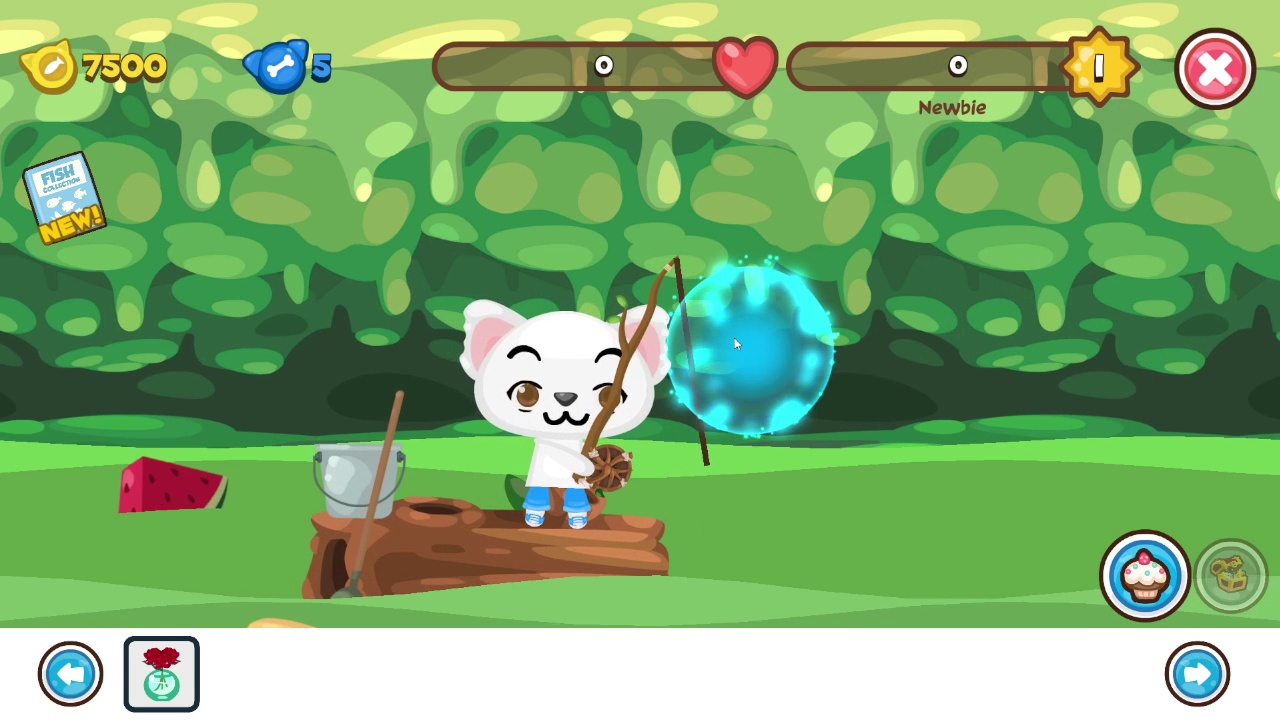point: (665, 263, 839, 437)
